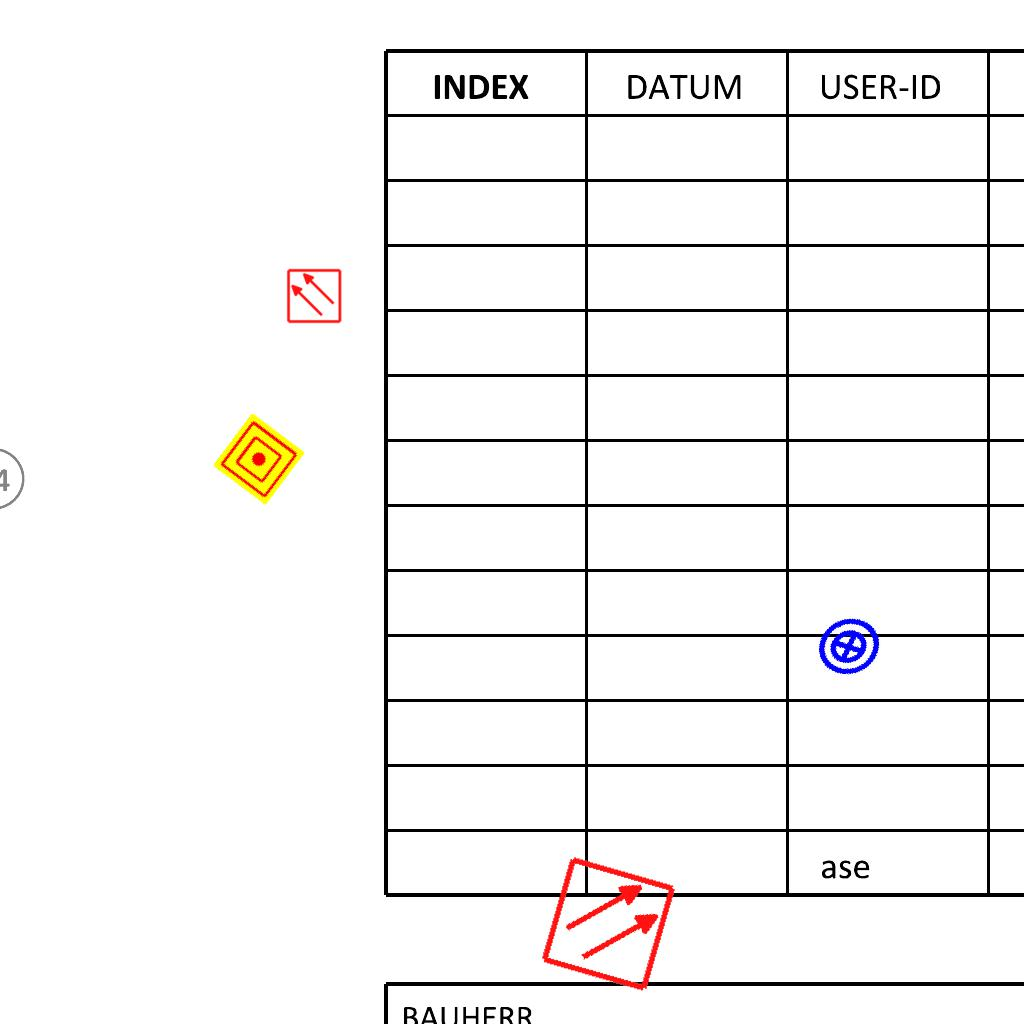NAM-Nichtautomatischer_Melder: (212, 412, 306, 506)
RMO_Rauchmelder_optischer: (538, 853, 679, 994), (286, 268, 342, 324)
Taster_beleuchtet: (805, 603, 893, 691)
